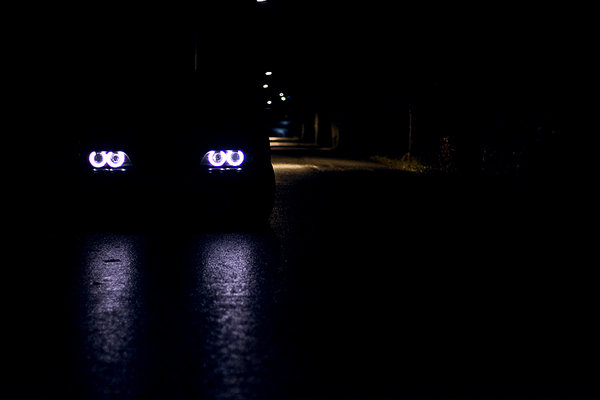car: (79, 63, 288, 229)
